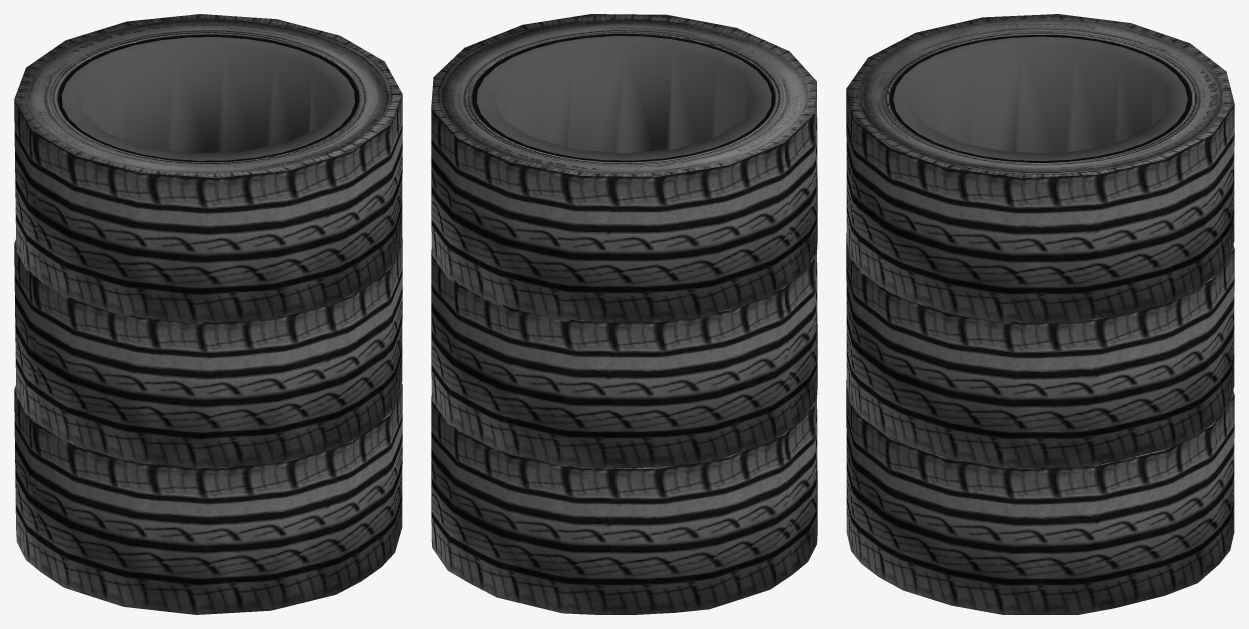
File: tire_barrier2.obj
The picture shows the model from 3 angles, left to right: view 1: azimuth 30°, elevation 25°; view 2: azimuth 150°, elevation 25°; view 3: azimuth 270°, elevation 25°; orthographic projection.
Visible parts, largest first — view 1: XZ_wheel.002_XZ_wheel.002_DefaultMaterial.001, XZ_wheel_XZ_wheel_DefaultMaterial.001, XZ_wheel.001_XZ_wheel.001_DefaultMaterial.001; view 2: XZ_wheel.002_XZ_wheel.002_DefaultMaterial.001, XZ_wheel_XZ_wheel_DefaultMaterial.001, XZ_wheel.001_XZ_wheel.001_DefaultMaterial.001; view 3: XZ_wheel.002_XZ_wheel.002_DefaultMaterial.001, XZ_wheel_XZ_wheel_DefaultMaterial.001, XZ_wheel.001_XZ_wheel.001_DefaultMaterial.001.
Part boxes in pixels (left/top/right/bottom): XZ_wheel.002_XZ_wheel.002_DefaultMaterial.001: left=14, top=14, right=402, bottom=324; XZ_wheel_XZ_wheel_DefaultMaterial.001: left=14, top=383, right=402, bottom=614; XZ_wheel.001_XZ_wheel.001_DefaultMaterial.001: left=14, top=237, right=402, bottom=468; XZ_wheel.002_XZ_wheel.002_DefaultMaterial.001: left=431, top=14, right=817, bottom=322; XZ_wheel_XZ_wheel_DefaultMaterial.001: left=431, top=396, right=817, bottom=614; XZ_wheel.001_XZ_wheel.001_DefaultMaterial.001: left=431, top=250, right=817, bottom=467; XZ_wheel.002_XZ_wheel.002_DefaultMaterial.001: left=846, top=14, right=1234, bottom=323; XZ_wheel_XZ_wheel_DefaultMaterial.001: left=846, top=380, right=1234, bottom=614; XZ_wheel.001_XZ_wheel.001_DefaultMaterial.001: left=846, top=233, right=1234, bottom=468.
Bounding box in the file's own units: 0.6579 × 0.8372 × 0.6579.
1 material, 1 textured.
